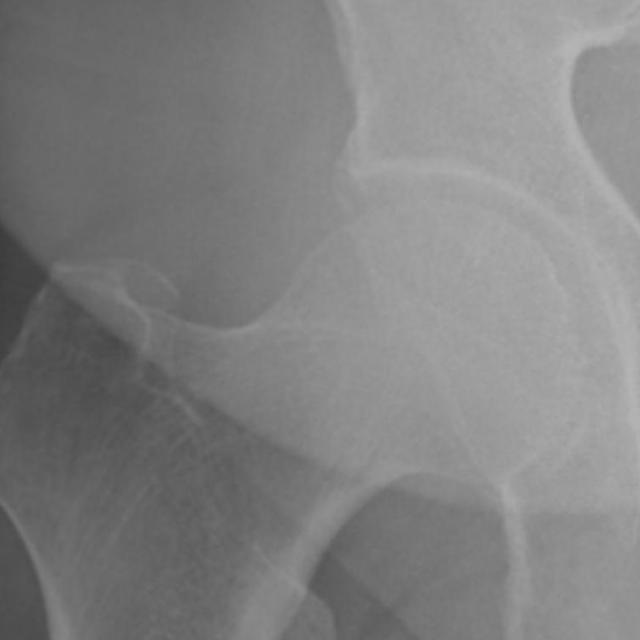Fitted_femural_head: (302, 201, 432, 302)
